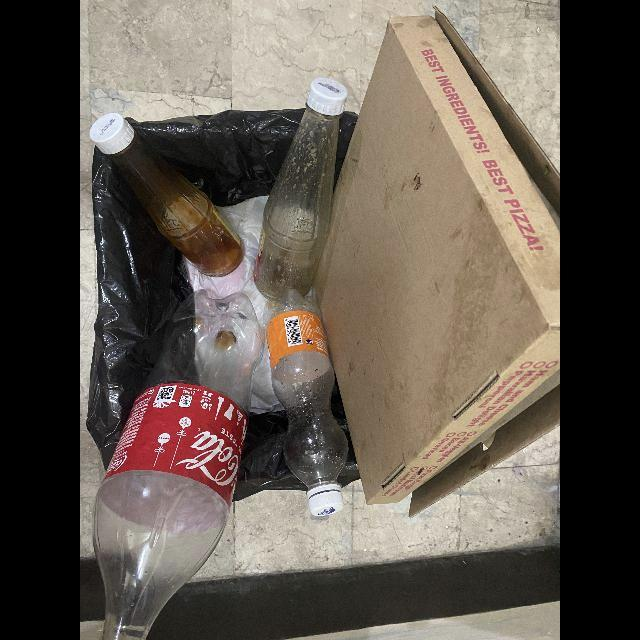cardboard: (317, 10, 560, 519)
glass_bottle: (89, 113, 245, 278), (253, 78, 348, 302)
plastic_bottle: (93, 293, 266, 640), (263, 290, 349, 517)
